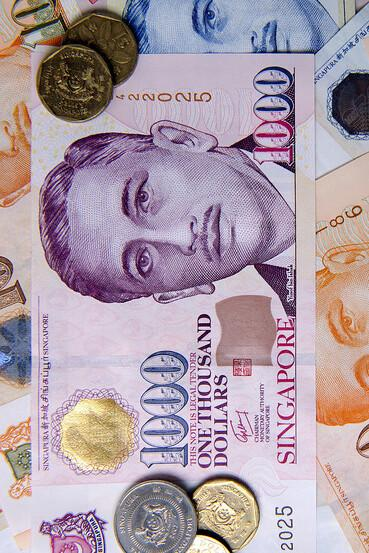1000SingaporeDollar: (32, 56, 313, 553)
